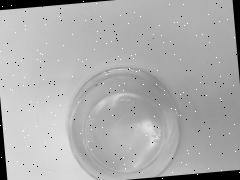plastic: (19, 36, 219, 180)
